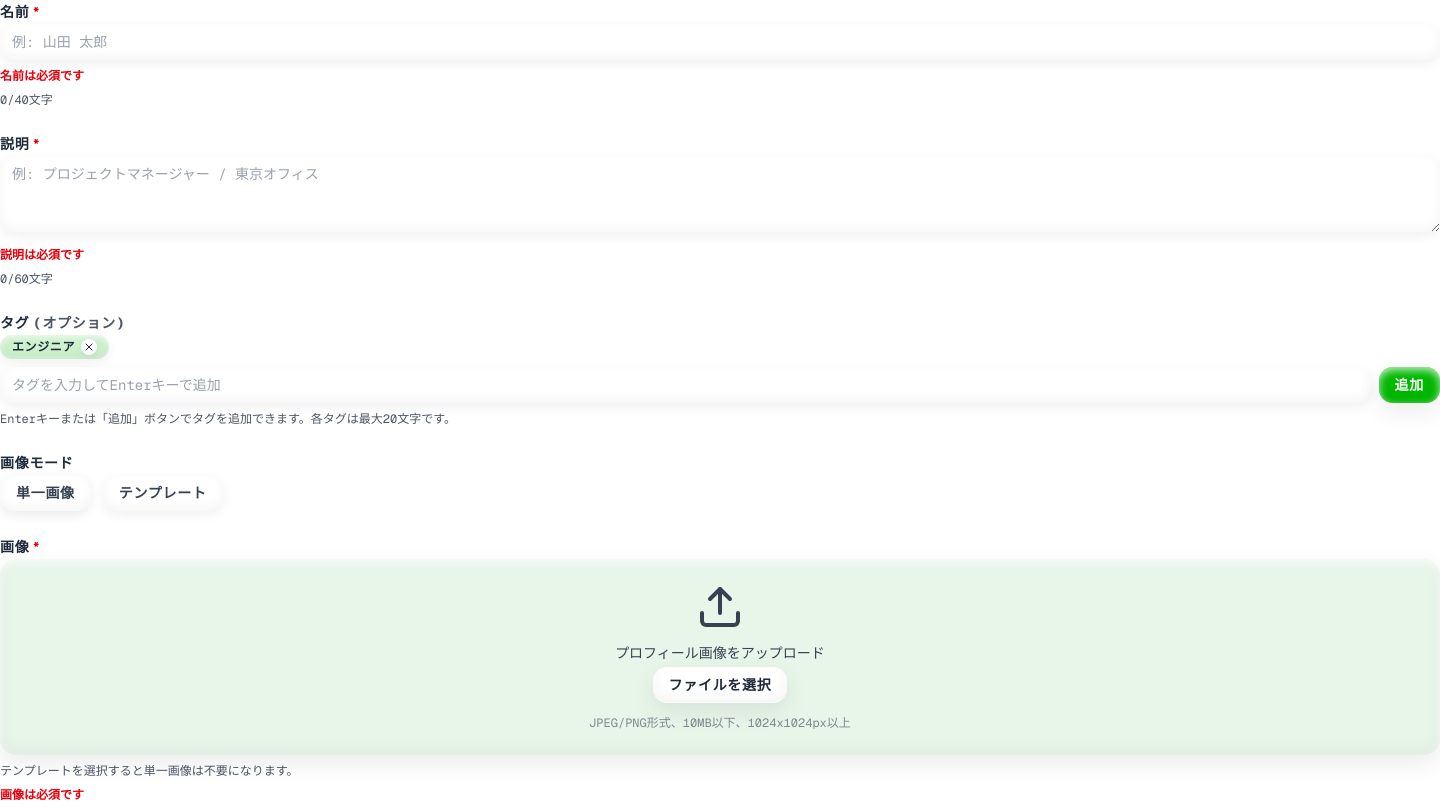
Test case: PersonForm › Tags field › shows error for duplicate tag
Step 1. Type "エンジニア" into the field with placeholder "タグを入力してEnterキーで追加" → (685, 385), box [0,367,1371,403]
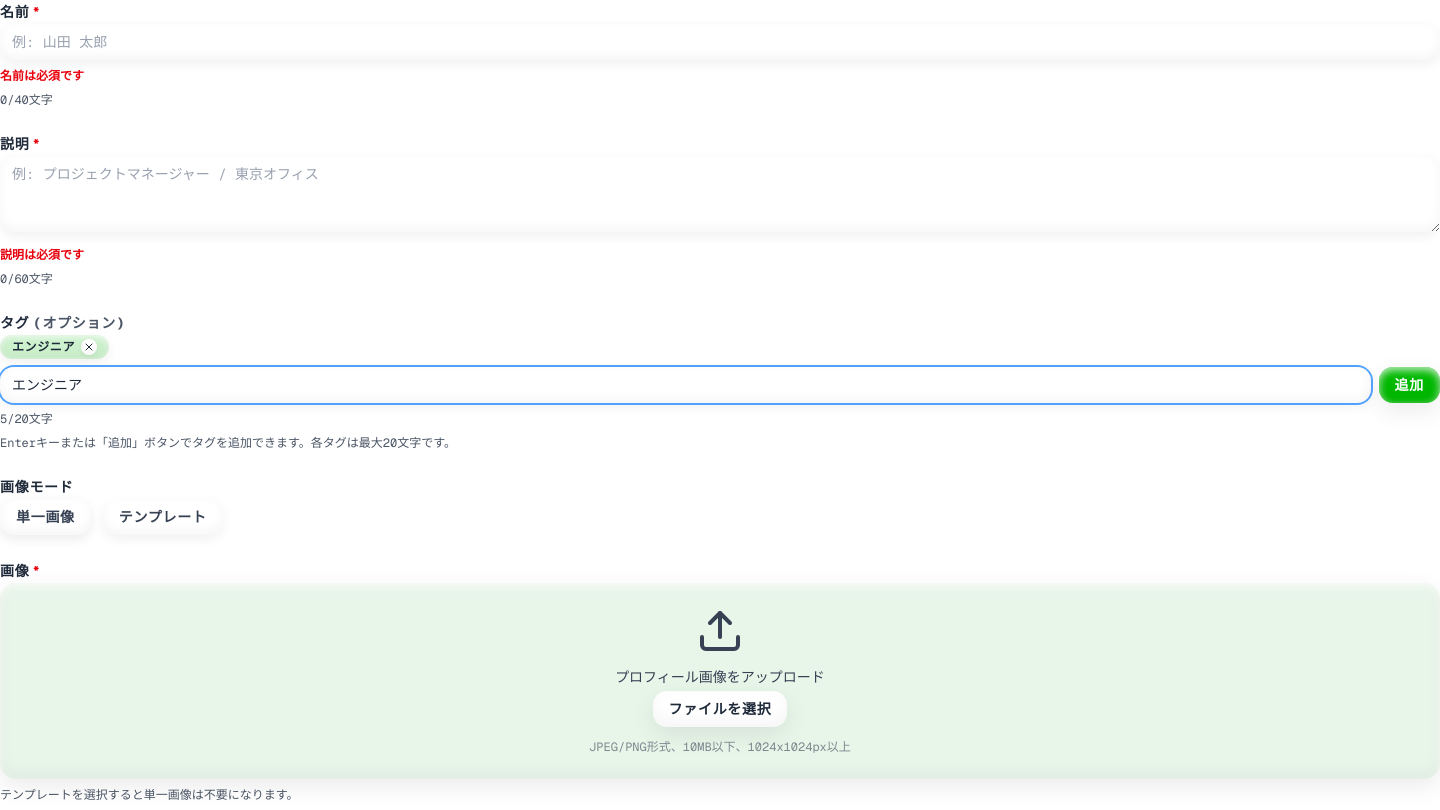
Step 2. Click the button "追加" → (1409, 385), box [1379,367,1439,403]
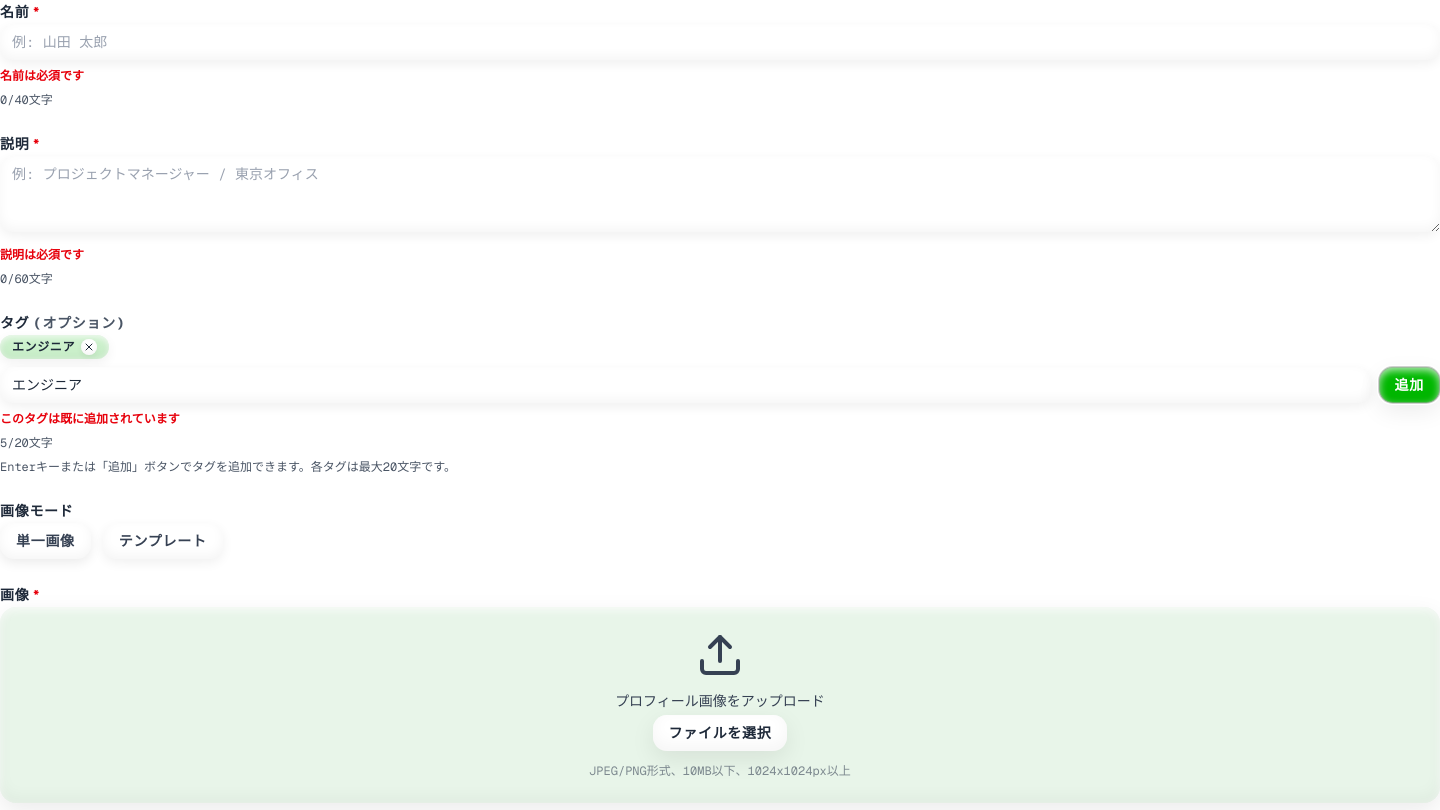
expect the text "このタグは既に追加されています" is shown: met, box [0,411,180,427]
